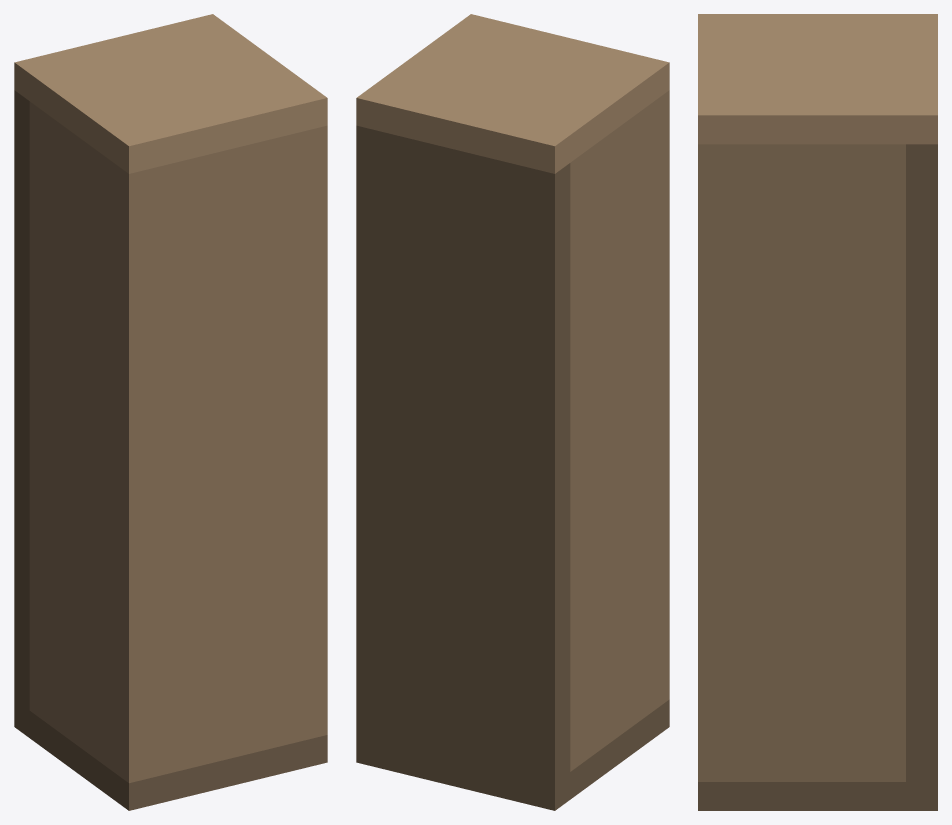
Rendered from estanteria_pociones_castano_01.glb.
3 views of the same model, side by side, from view 1: azimuth 30°, elevation 25°; view 2: azimuth 150°, elevation 25°; view 3: azimuth 270°, elevation 25° (orthographic). The views are drawn at different scales.
Visible parts, largest first — view 1: estanteria_pociones_castano; view 2: estanteria_pociones_castano; view 3: estanteria_pociones_castano.
Part boxes in pixels (x1,y1,x2,y2): estanteria_pociones_castano: (14,14,327,810); estanteria_pociones_castano: (356,14,669,810); estanteria_pociones_castano: (698,14,937,810).
Bounding box in the file's own units: 1 × 3.2 × 1.
